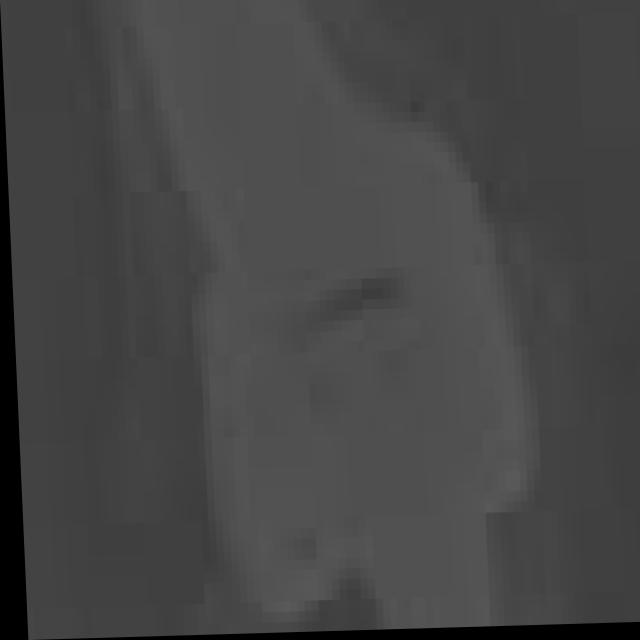fracture: (16, 0, 640, 638)
